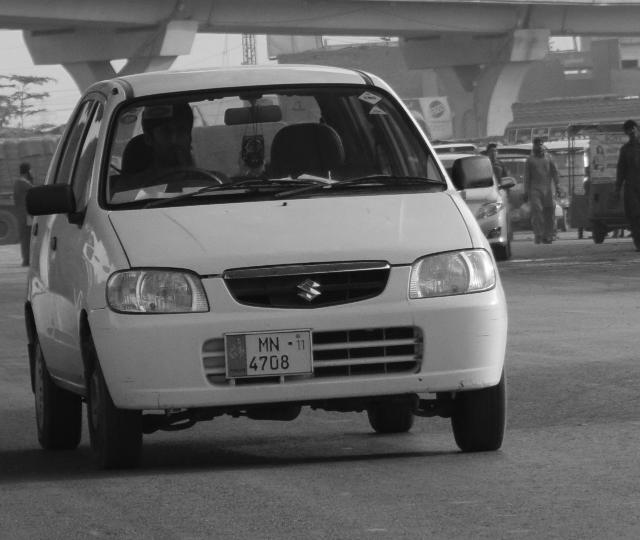Number: (249, 334, 293, 371)
